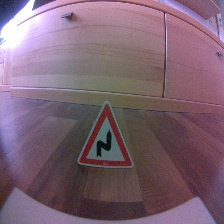vorsicht: (75, 100, 137, 171)
